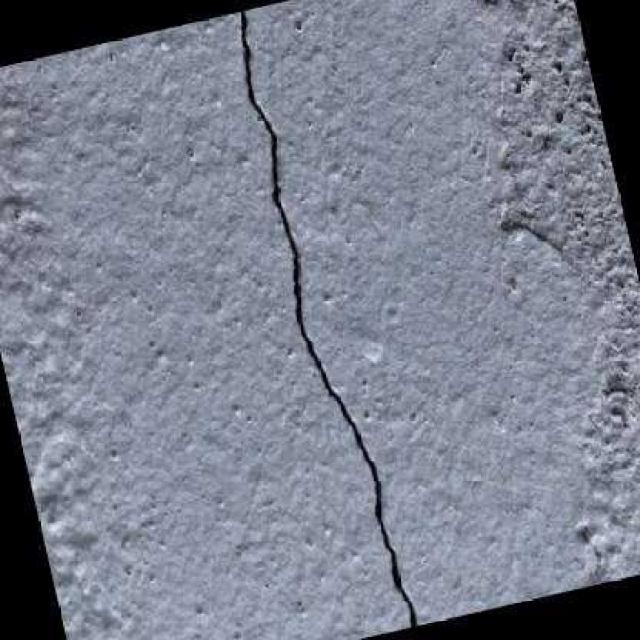D00: (238, 9, 417, 628)
